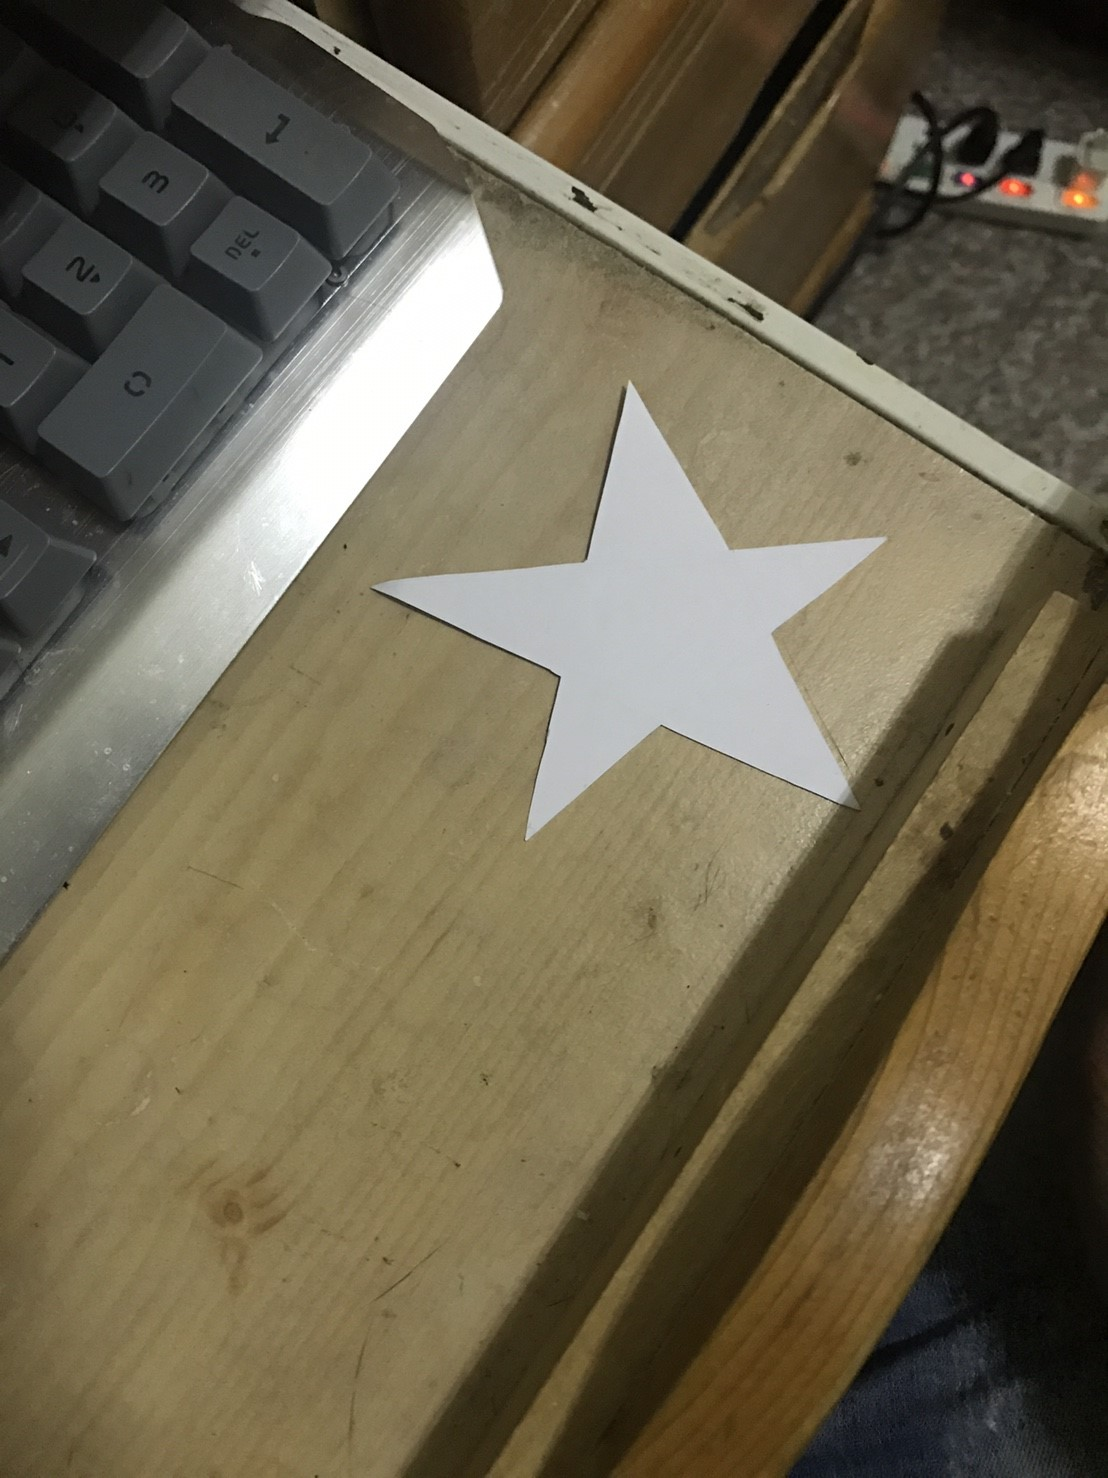star: (363, 364, 905, 837)
